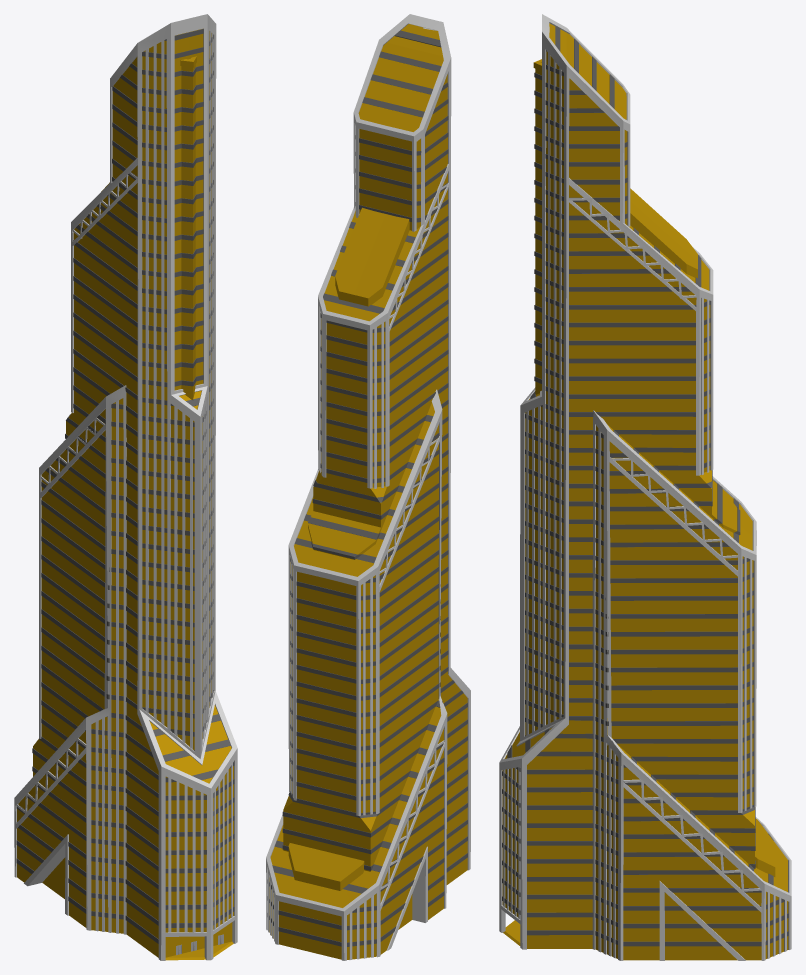
Rendered from City 3.fbx.
3 renders of one model, left to right at view 1: azimuth 30°, elevation 25°; view 2: azimuth 150°, elevation 25°; view 3: azimuth 270°, elevation 25°, orthographic. The views are drawn at different scales.
Visible parts, largest first — view 1: SmartCombine_4, SmartCombine_2, SmartCombine_7; view 2: SmartCombine_4, SmartCombine_2, SmartCombine_7; view 3: SmartCombine_4, SmartCombine_2, SmartCombine_7.
Boxes of the visible parts, x1=… form: SmartCombine_4: x1=14, y1=14, x2=237, y2=960; SmartCombine_2: x1=16, y1=29, x2=234, y2=943; SmartCombine_7: x1=95, y1=29, x2=232, y2=933; SmartCombine_4: x1=266, y1=14, x2=470, y2=960; SmartCombine_2: x1=267, y1=30, x2=467, y2=946; SmartCombine_7: x1=268, y1=309, x2=383, y2=959; SmartCombine_4: x1=499, y1=14, x2=791, y2=960; SmartCombine_2: x1=502, y1=26, x2=788, y2=946; SmartCombine_7: x1=503, y1=53, x2=786, y2=958.
Size of the model in its own units: 4901 by 34401 by 10033.
